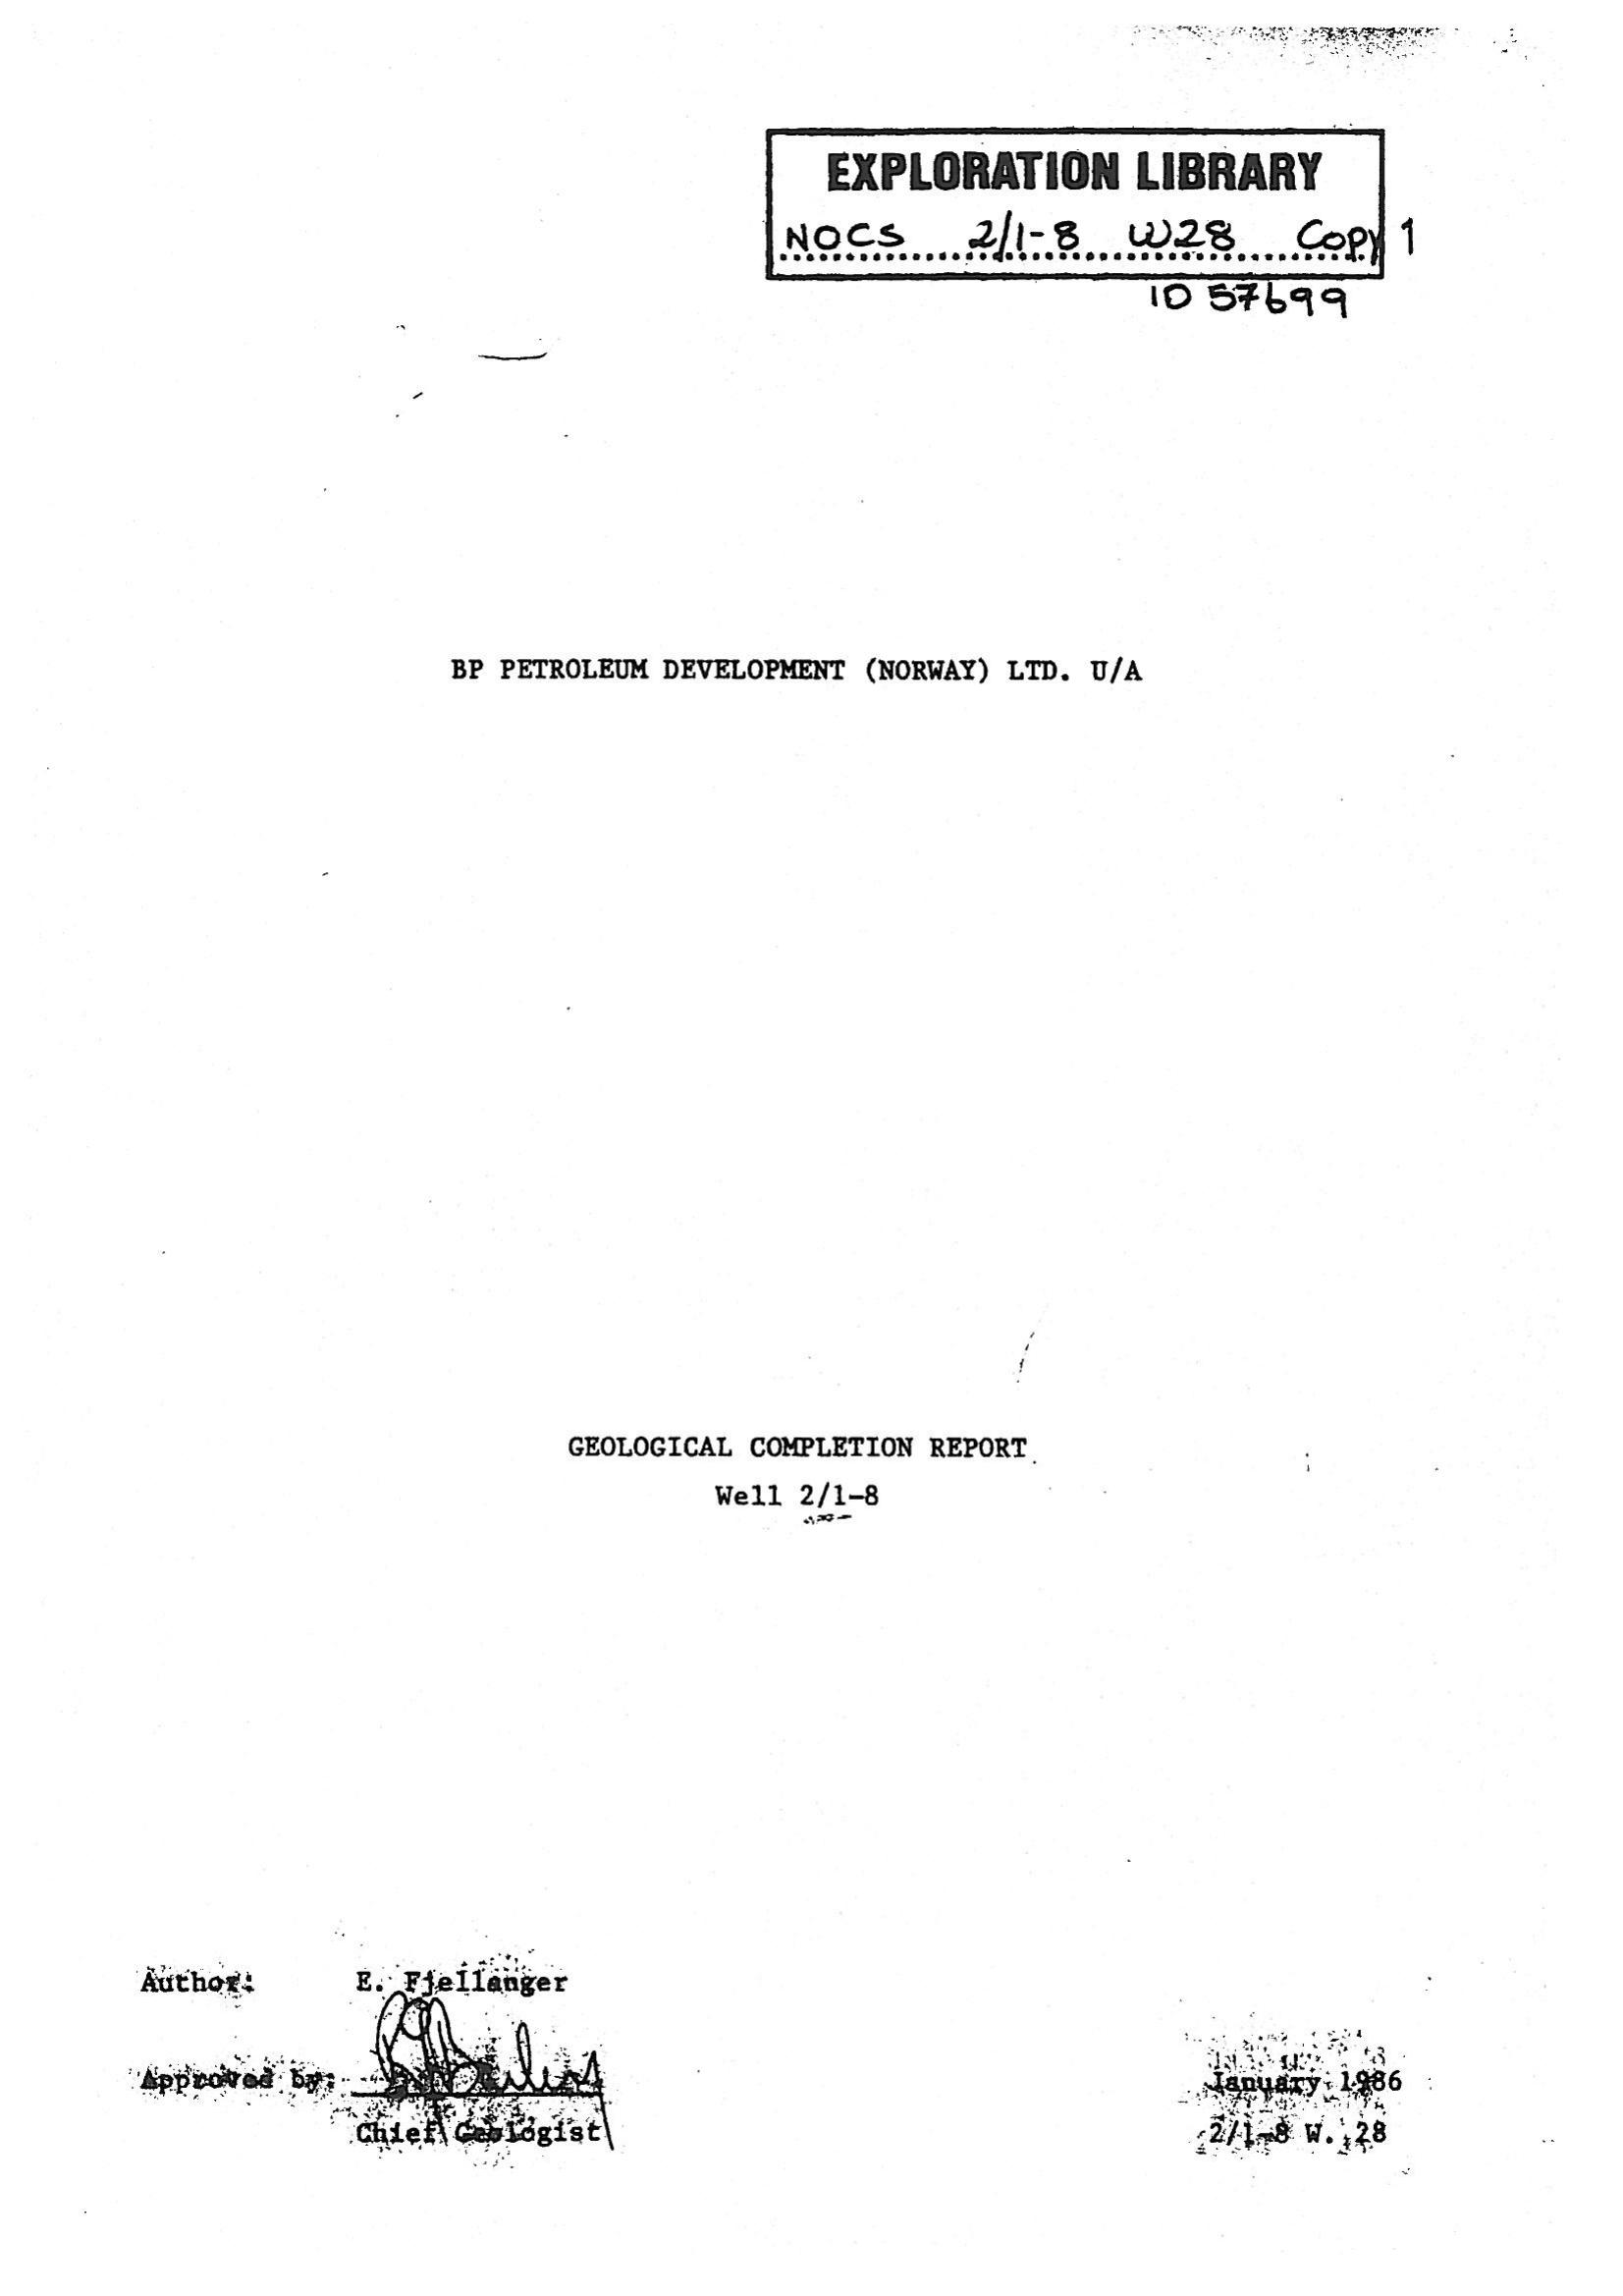text: (539, 1398, 1075, 1551), (416, 613, 1175, 718)
undefined: (727, 83, 1461, 365), (97, 1922, 659, 2178), (1138, 1971, 1458, 2212)
